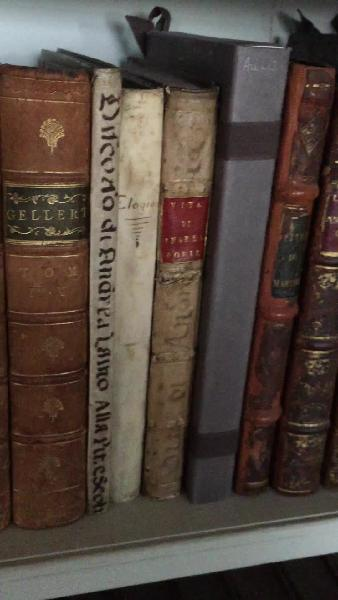Aa6-24: (93, 66, 120, 510)
Aa6-25: (116, 77, 169, 511)
Aa6-26: (153, 64, 230, 513)
Aa6-27: (187, 21, 280, 508)
Aa6-28: (240, 34, 338, 493)
